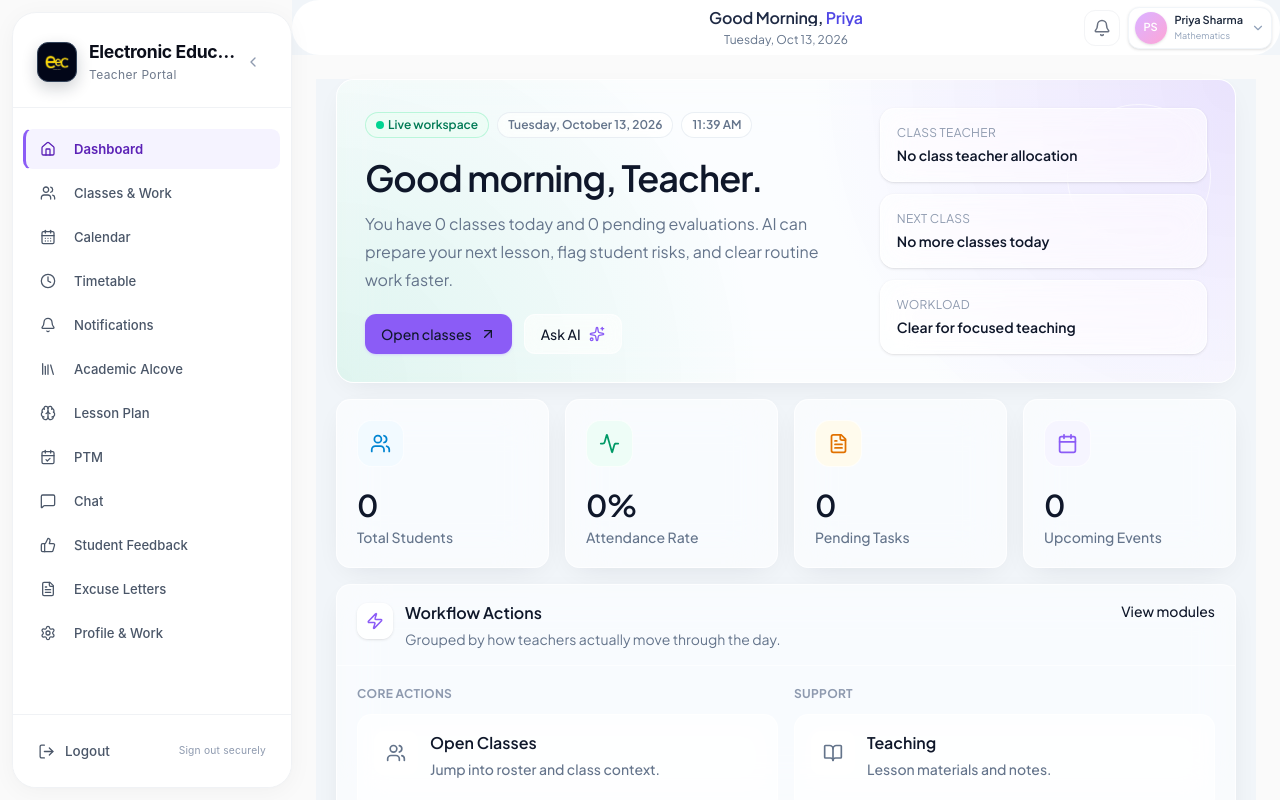
Test case: TeacherPortal › keeps a visible brand mark when the sidebar is collapsed
Click the button named "Collapse sidebar" at (253, 62), box [239,48,267,76]
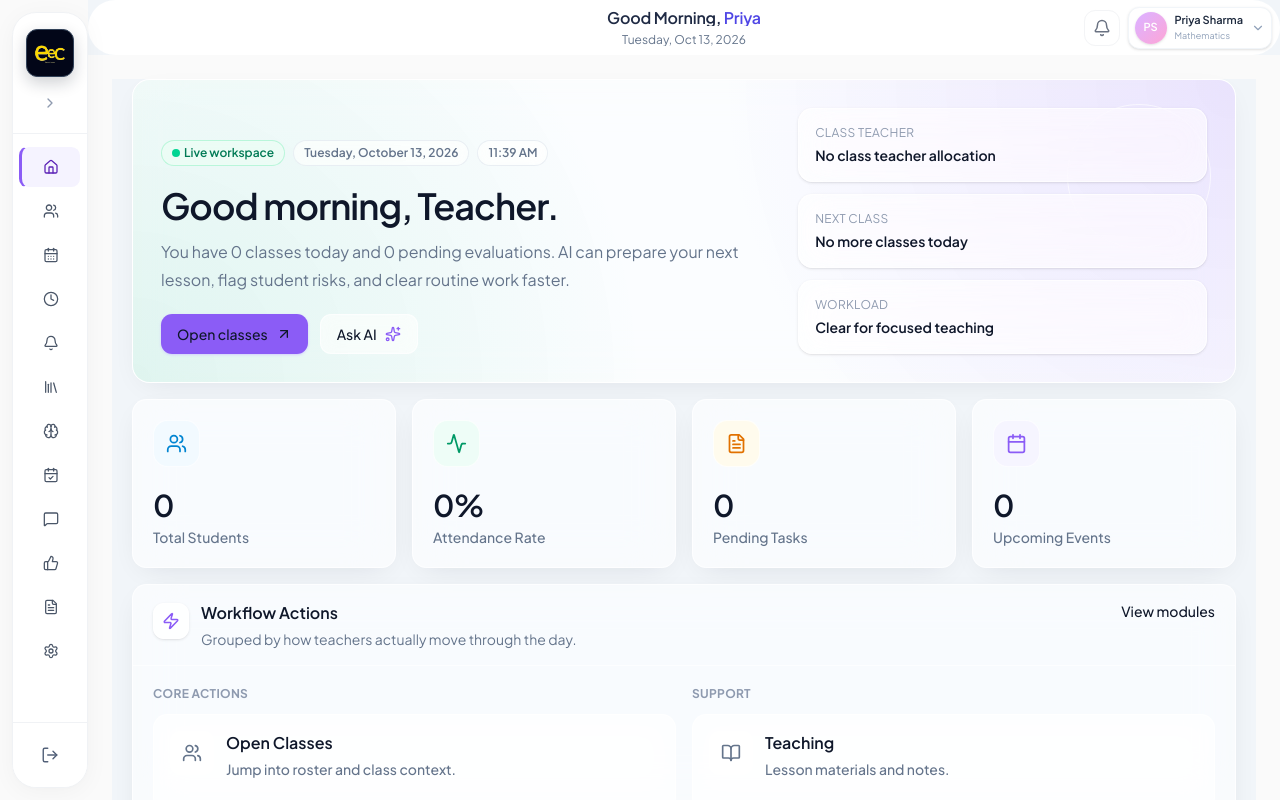
Expected: the picture is shown, [33,36,67,70]
Expected: the button named "Expand sidebar" is shown, [36,89,64,117]
